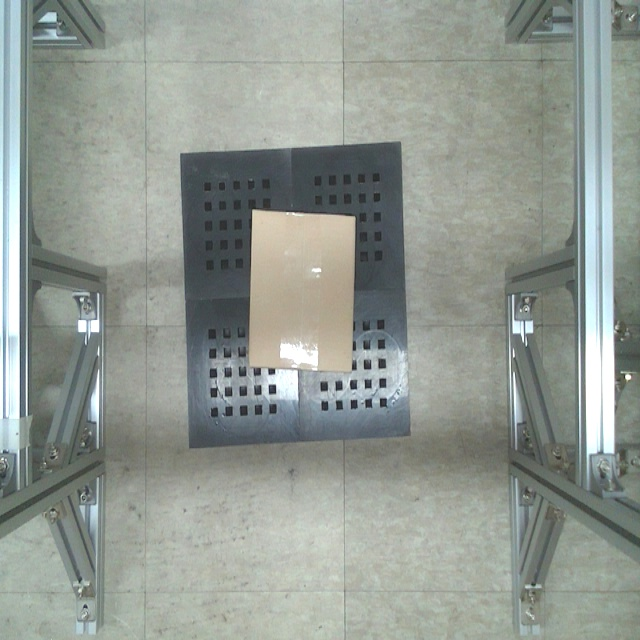box: (245, 205, 360, 376)
pallet: (182, 140, 407, 451)
